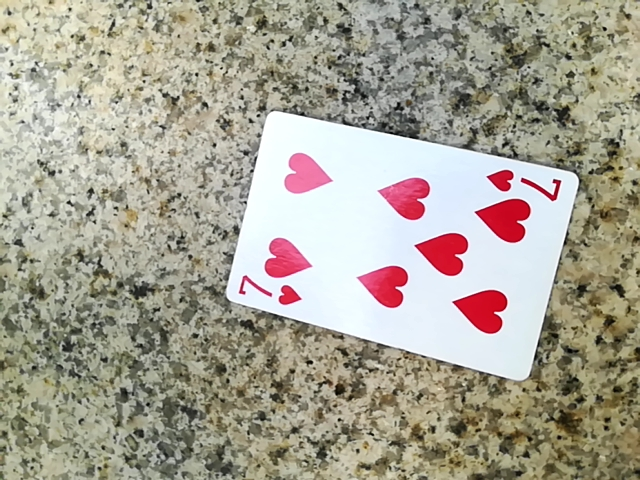hx 7: (218, 113, 582, 379)
